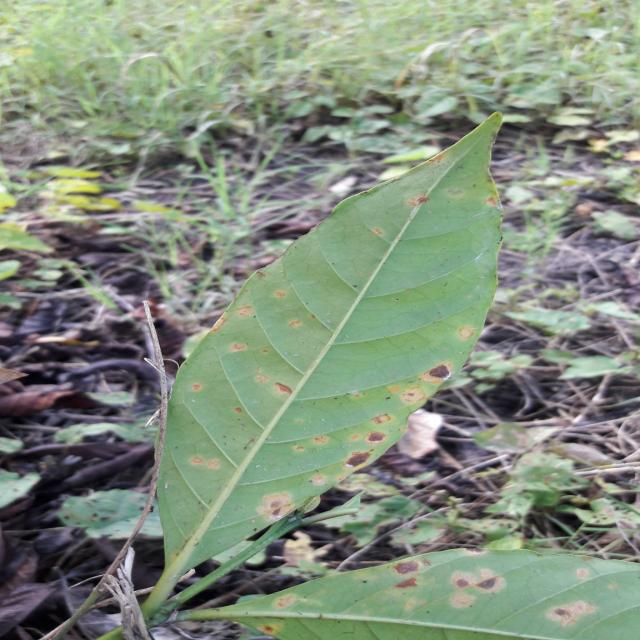Enfermedad-Roya: (148, 114, 504, 617)
